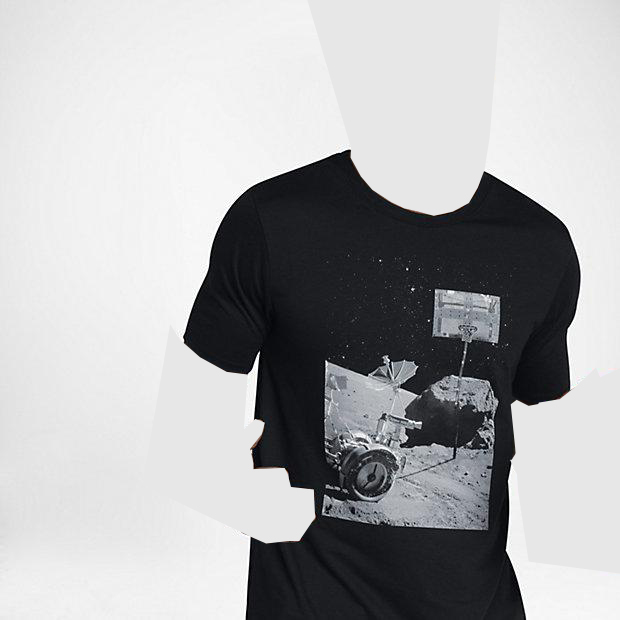teeshirt: (177, 143, 583, 620)
